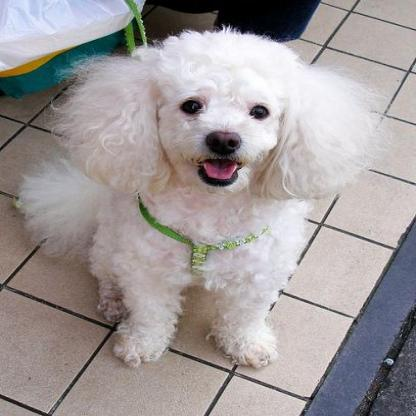toy_poodle: (12, 25, 377, 367)
